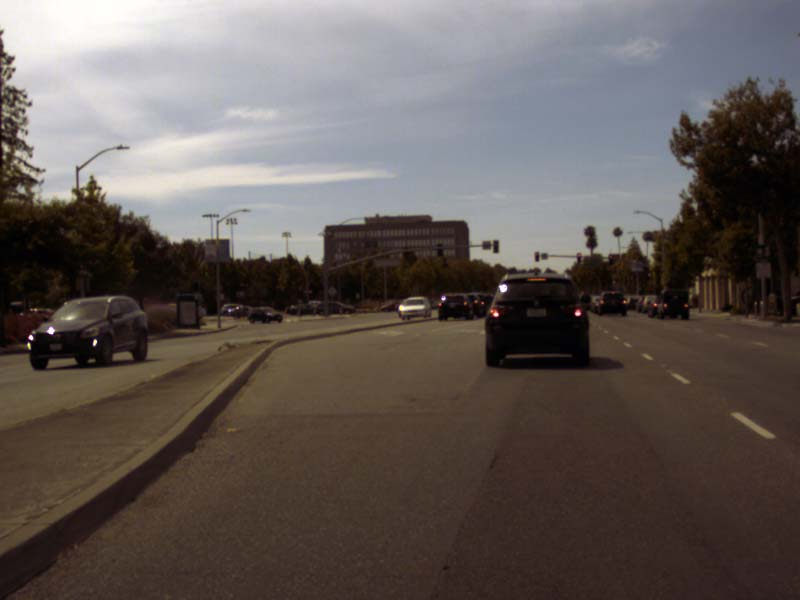Red: (493, 240, 497, 251), (609, 255, 612, 264), (577, 254, 580, 262), (535, 252, 538, 260)
